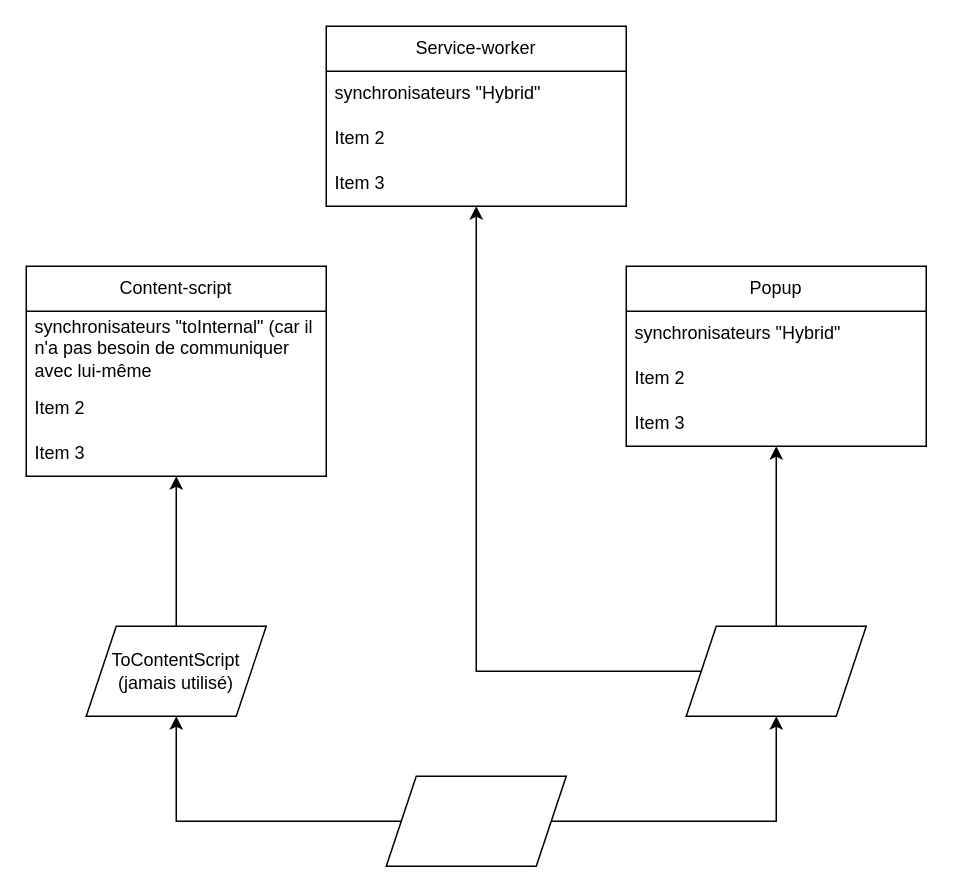
Image size: 953x893. Some labels were removed from this diagram. The centre of each missing label's shape, as x and y in pixels:
"Hybrid" goes at (475,820).
"ToInternal" goes at (775,670).
